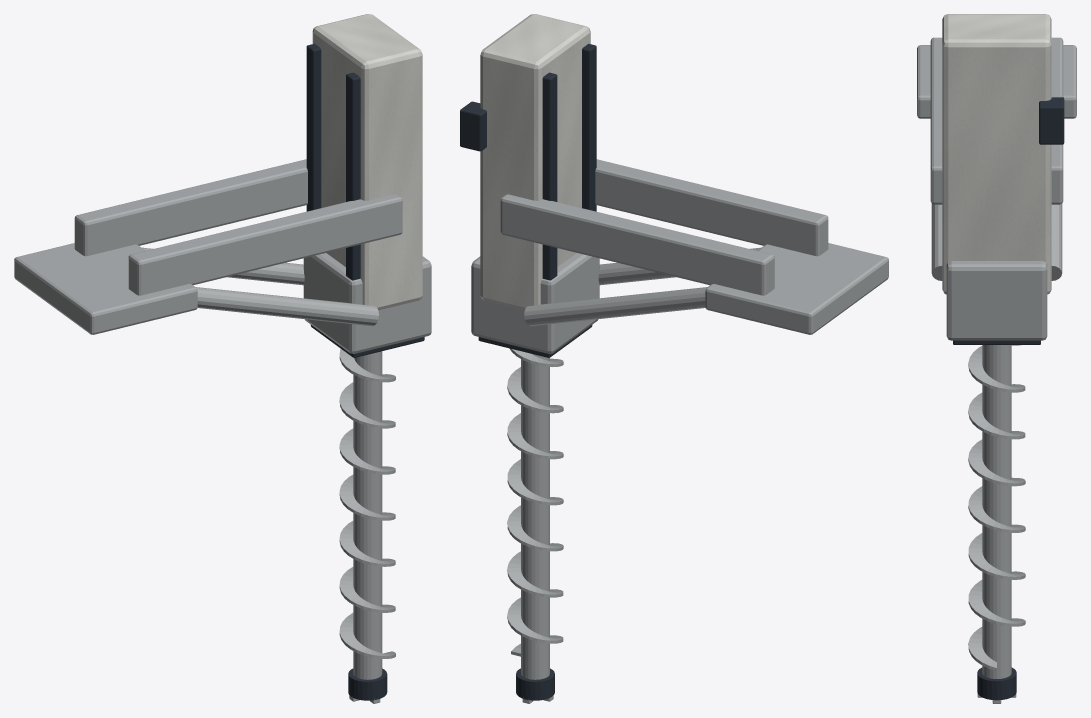
The model's file is lunar_sample_drill.glb.
The picture shows the model from 3 angles, left to right: view 1: azimuth 30°, elevation 25°; view 2: azimuth 150°, elevation 25°; view 3: azimuth 270°, elevation 25°; orthographic projection.
Parts seen in each view (by area): view 1: Drill_Column, Cantilever_Beam, Cantilever_Beam.001, Deck_Anchor, Auger_Shaft, Drive_Housing, Auger_Flight, Diagonal_Brace, Linear_Guide.001, Linear_Guide, Diagonal_Brace.001, Cutting_Crown; view 2: Drill_Column, Cantilever_Beam.001, Cantilever_Beam, Deck_Anchor, Auger_Shaft, Drive_Housing, Auger_Flight, Diagonal_Brace.001, Linear_Guide.001, Linear_Guide, Cable_Connector.002, Diagonal_Brace (+1 smaller); view 3: Drill_Column, Auger_Shaft, Drive_Housing, Auger_Flight, Cantilever_Beam, Deck_Anchor, Cantilever_Beam.001, Cable_Connector.002, Cutting_Crown, Diagonal_Brace, Diagonal_Brace.001, Drive_EndPlate.
Boxes of the visible parts, box(x1,y1,x2,y2) form: Drill_Column: box(312, 14, 422, 310); Cantilever_Beam: box(128, 194, 402, 295); Cantilever_Beam.001: box(74, 159, 307, 256); Deck_Anchor: box(14, 243, 197, 334); Auger_Shaft: box(353, 351, 382, 679); Drive_Housing: box(303, 253, 431, 353); Auger_Flight: box(339, 349, 395, 658); Diagonal_Brace: box(196, 287, 378, 326); Linear_Guide.001: box(306, 43, 321, 211); Linear_Guide: box(346, 72, 360, 280); Diagonal_Brace.001: box(142, 247, 304, 285); Cutting_Crown: box(348, 668, 387, 700); Drill_Column: box(480, 14, 590, 310); Cantilever_Beam.001: box(500, 194, 774, 295); Cantilever_Beam: box(595, 159, 828, 256); Deck_Anchor: box(705, 243, 888, 334); Auger_Shaft: box(521, 354, 549, 679); Drive_Housing: box(471, 253, 599, 353); Auger_Flight: box(507, 348, 563, 656); Diagonal_Brace.001: box(524, 287, 707, 326); Linear_Guide.001: box(542, 72, 557, 280); Linear_Guide: box(582, 43, 596, 211); Cable_Connector.002: box(460, 101, 486, 151); Diagonal_Brace: box(598, 247, 760, 285); Drill_Column: box(942, 14, 1051, 294); Auger_Shaft: box(982, 345, 1011, 678); Drive_Housing: box(946, 261, 1047, 340); Auger_Flight: box(968, 345, 1025, 670); Cantilever_Beam: box(930, 37, 942, 204); Deck_Anchor: box(917, 45, 1076, 118); Cantilever_Beam.001: box(1051, 37, 1063, 204); Cable_Connector.002: box(1039, 97, 1064, 144); Cutting_Crown: box(977, 667, 1016, 700); Diagonal_Brace: box(931, 204, 942, 280); Diagonal_Brace.001: box(1051, 204, 1062, 280); Drive_EndPlate: box(953, 340, 1040, 344).
Size of the model in its own units: 1 by 1.76 by 0.38.
3 materials, 1 textured.
